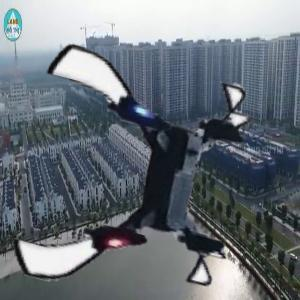drone: (9, 59, 251, 300)
